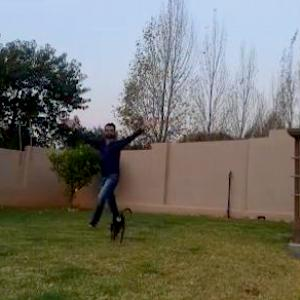takeoff: (89, 109, 185, 229)
